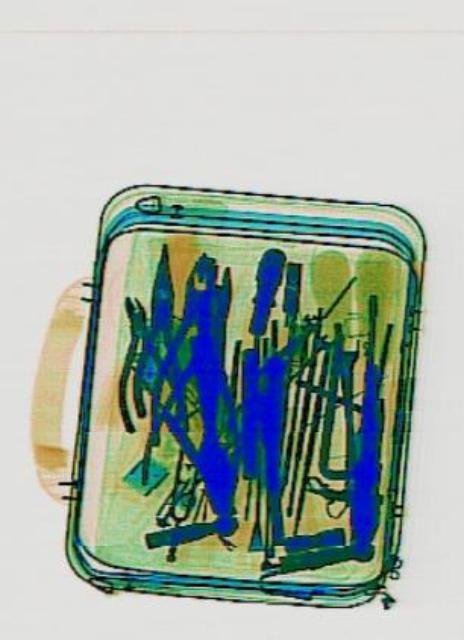Pliers: (138, 252, 264, 504), (146, 248, 244, 434), (100, 287, 179, 431), (127, 241, 189, 419)
